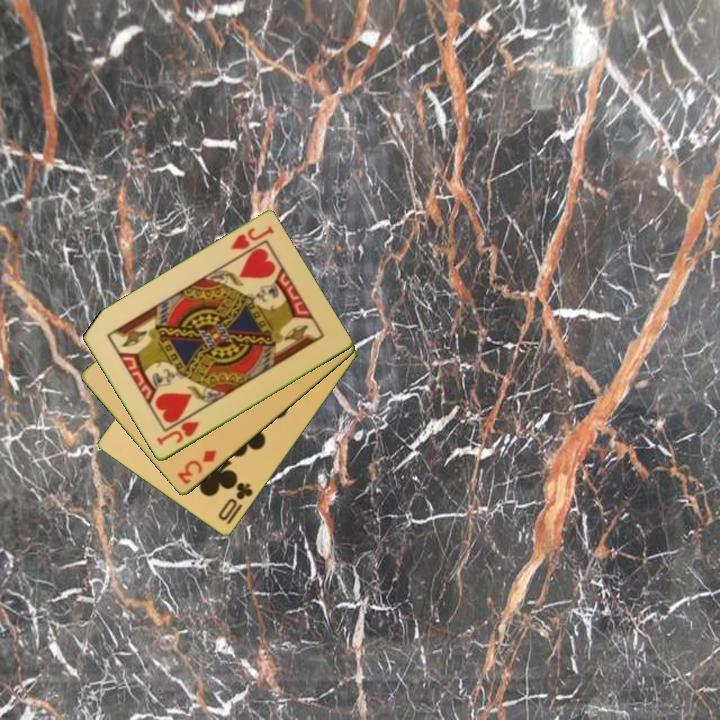10c: (215, 479, 256, 524)
3d: (173, 446, 220, 488)
Jh: (153, 418, 202, 449), (227, 223, 277, 253)
